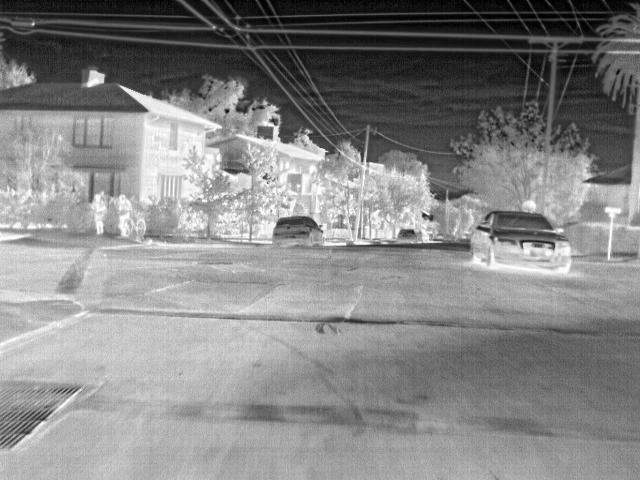car: (470, 208, 573, 276), (273, 214, 324, 248), (399, 227, 420, 245)
person: (117, 192, 130, 239), (94, 192, 107, 236)
